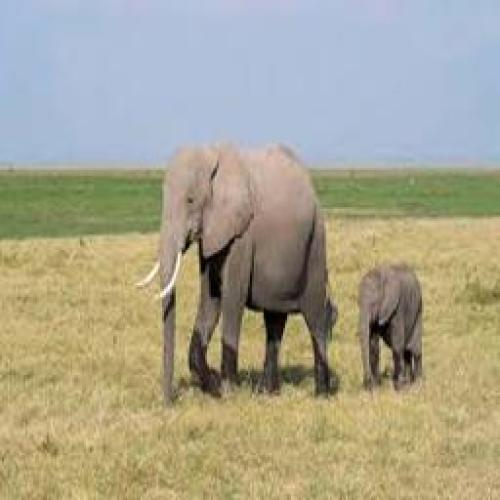african_elephant-endangered: (154, 148, 330, 388), (356, 261, 426, 383)
